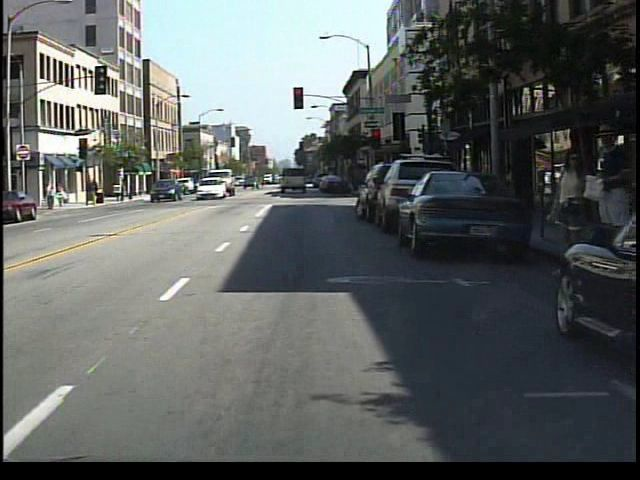person: (549, 143, 592, 288), (587, 118, 623, 282), (45, 179, 60, 213), (55, 183, 71, 212)
